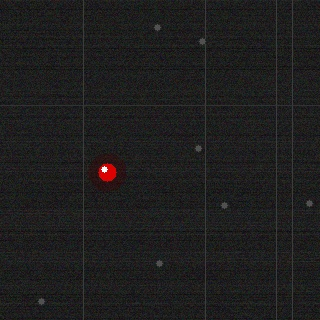red_fault: (96, 161, 118, 183)
